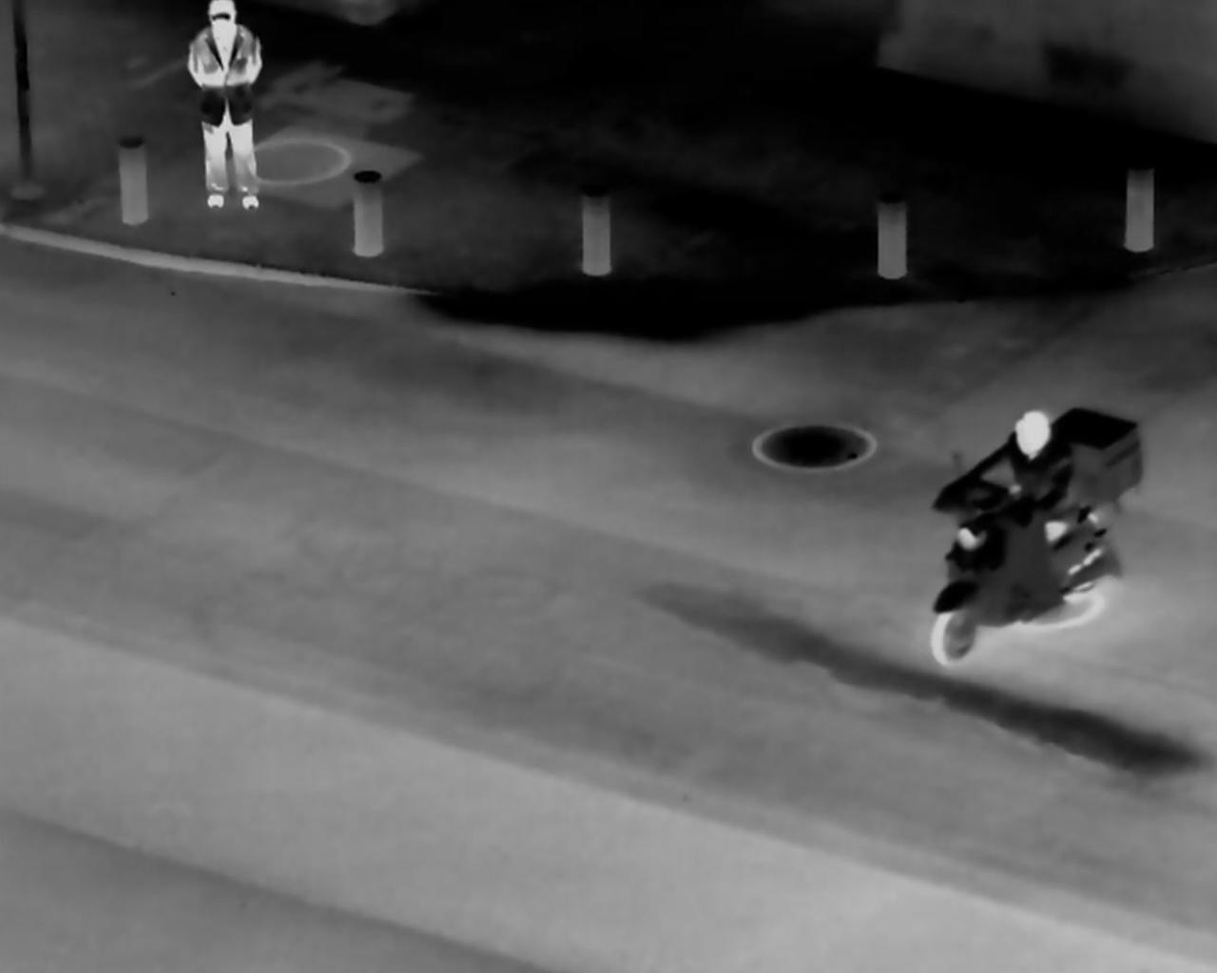person: (968, 391, 1075, 639)
